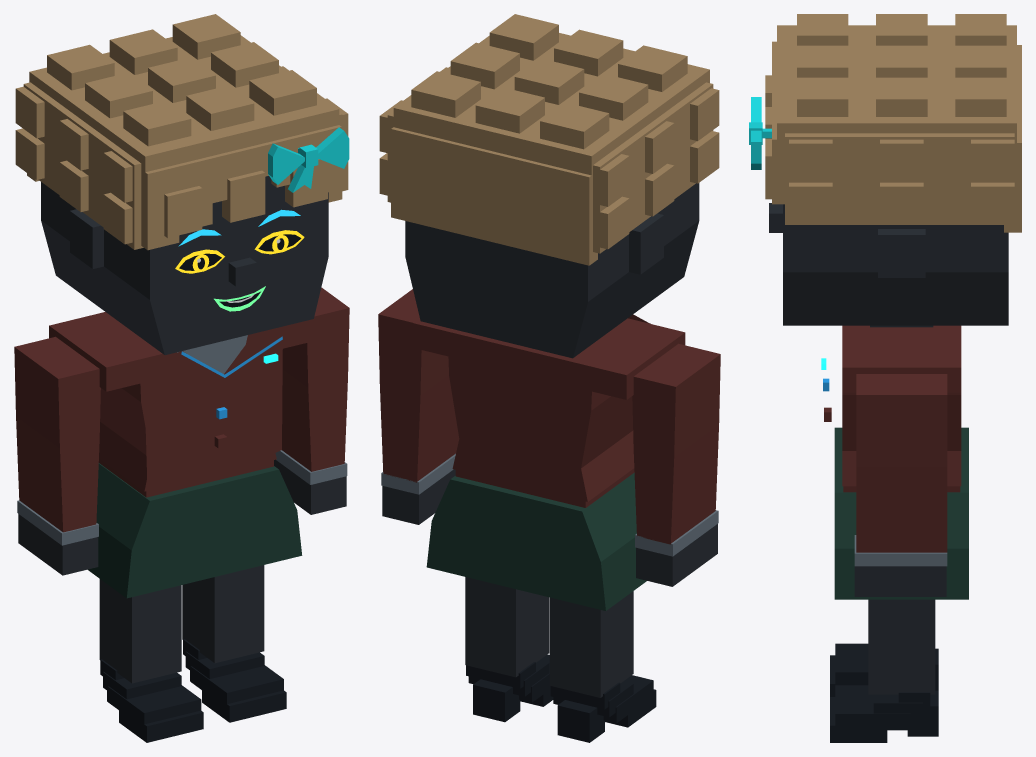
File: sample_3.glb
The picture shows the model from 3 angles, left to right: view 1: azimuth 30°, elevation 25°; view 2: azimuth 150°, elevation 25°; view 3: azimuth 270°, elevation 25°; orthographic projection. The views are drawn at different scales.
Parts seen in each view (by area): view 1: char_hair_visual, char_torso_visual, char_head_visual, char_arm_negx_visual, char_leg_negx_visual, char_leg_posx_visual, char_arm_posx_visual, char_bow_visual, char_hand_negx_visual, char_hand_posx_visual, char_eye_posx_visual, char_eye_negx_visual; view 2: char_hair_visual, char_torso_visual, char_head_visual, char_arm_negx_visual, char_arm_posx_visual, char_leg_negx_visual, char_leg_posx_visual, char_hand_negx_visual, char_hand_posx_visual; view 3: char_hair_visual, char_head_visual, char_arm_posx_visual, char_torso_visual, char_leg_posx_visual, char_hand_posx_visual, char_leg_negx_visual, char_bow_visual.
Boxes of the visible parts, box(x1,y1,x2,y2) form: char_hair_visual: box(15, 14, 348, 250); char_torso_visual: box(49, 312, 314, 598); char_head_visual: box(41, 176, 328, 354); char_arm_negx_visual: box(14, 336, 100, 545); char_leg_negx_visual: box(99, 579, 203, 742); char_leg_posx_visual: box(182, 565, 286, 722); char_arm_posx_visual: box(275, 287, 349, 484); char_bow_visual: box(268, 127, 349, 192); char_hand_negx_visual: box(18, 514, 98, 575); char_hand_posx_visual: box(274, 459, 346, 514); char_eye_posx_visual: box(254, 230, 304, 254); char_eye_negx_visual: box(175, 249, 224, 273); char_hair_visual: box(379, 14, 719, 265); char_torso_visual: box(413, 314, 685, 610); char_head_visual: box(405, 183, 699, 358); char_arm_negx_visual: box(632, 343, 720, 556); char_arm_posx_visual: box(378, 289, 459, 494); char_leg_negx_visual: box(549, 591, 656, 742); char_leg_posx_visual: box(465, 577, 553, 722); char_hand_negx_visual: box(636, 524, 717, 586); char_hand_posx_visual: box(382, 469, 455, 524); char_hair_visual: box(765, 14, 1021, 232); char_head_visual: box(769, 203, 1008, 327); char_arm_posx_visual: box(854, 374, 947, 566); char_torso_visual: box(823, 325, 968, 599); char_leg_posx_visual: box(830, 599, 938, 742); char_hand_posx_visual: box(854, 566, 946, 596); char_leg_negx_visual: box(830, 643, 938, 696); char_bow_visual: box(749, 97, 771, 169).
Size of the model in its own units: 0.88 by 1.82 by 0.6895.
